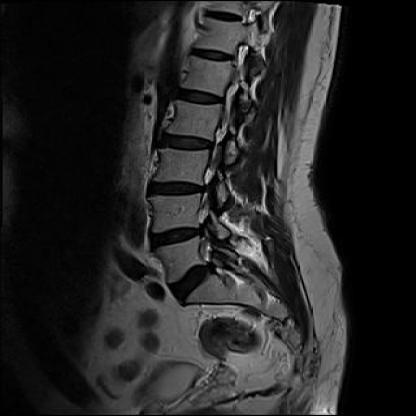Disc Bulgerotation: (156, 132, 213, 156), (148, 178, 205, 200), (150, 227, 199, 247)
Disc Protrusionrotation: (165, 267, 219, 297)
